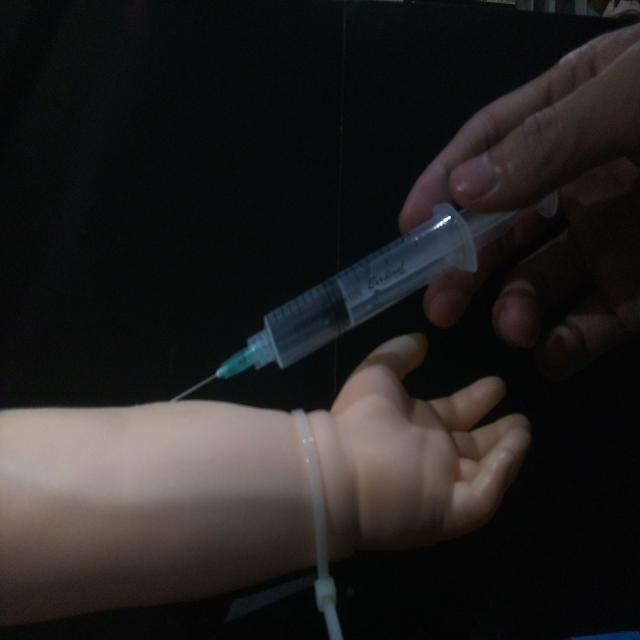17deg: (164, 187, 558, 405)
